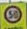limite 50: (2, 5, 23, 23)
